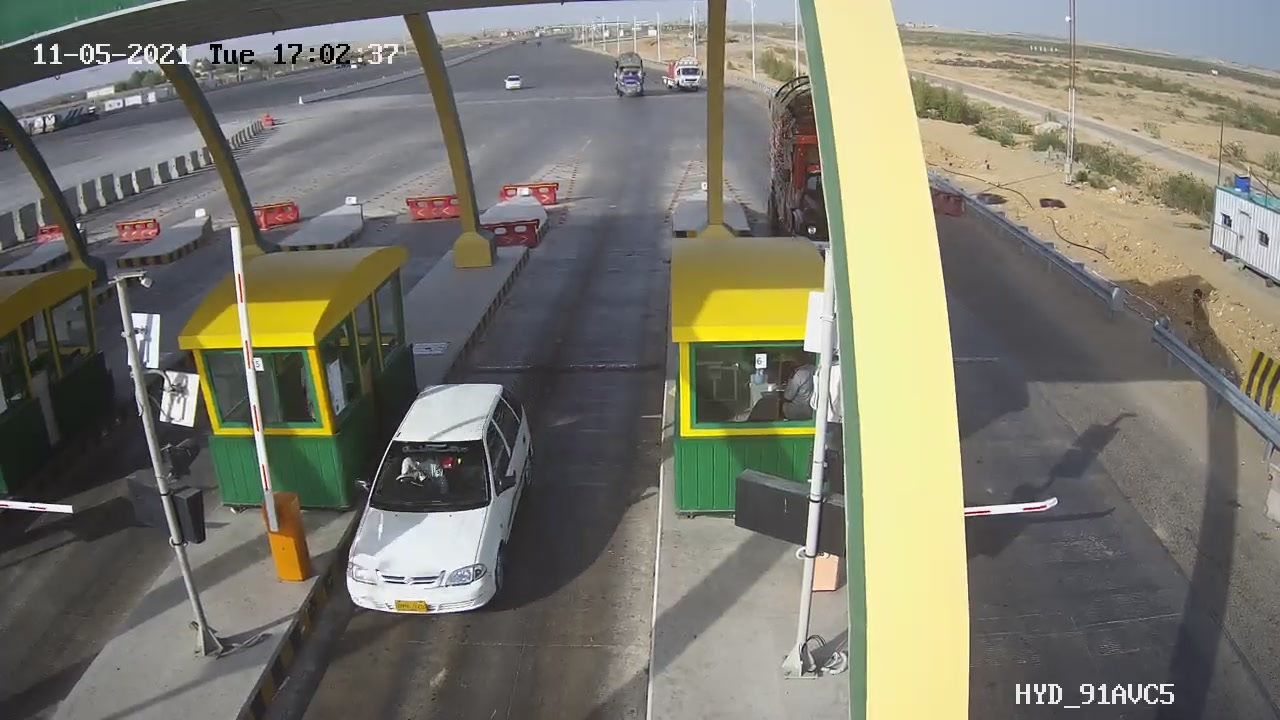F1: (321, 368, 566, 634)
